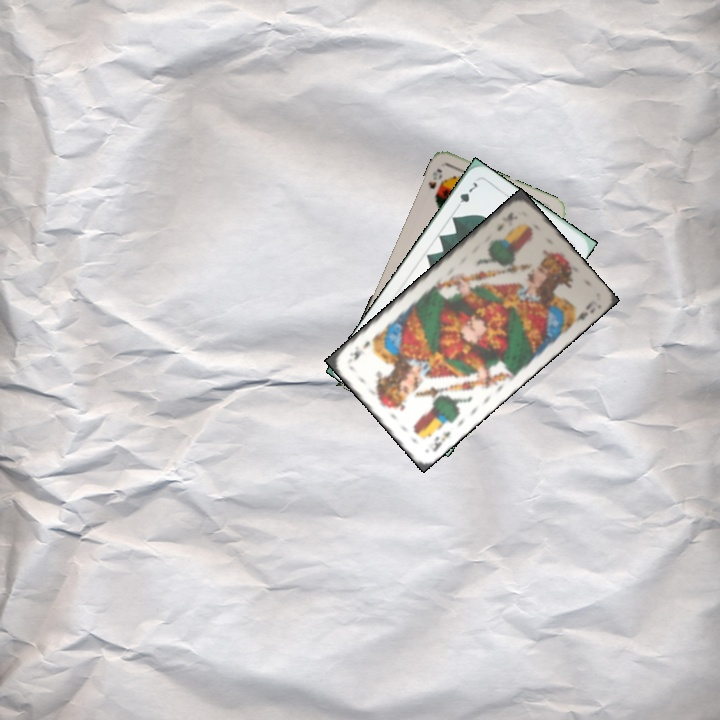EK: (429, 427, 453, 455), (493, 208, 516, 234)
G7: (451, 176, 480, 213)
SO: (424, 164, 445, 192)
